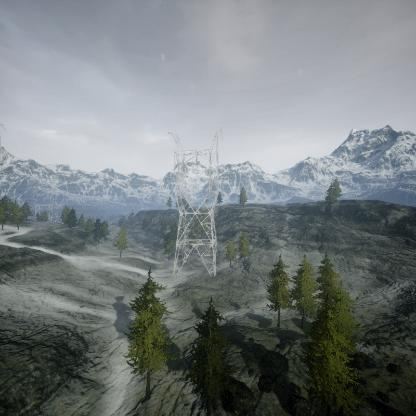tower: (164, 126, 226, 280)
